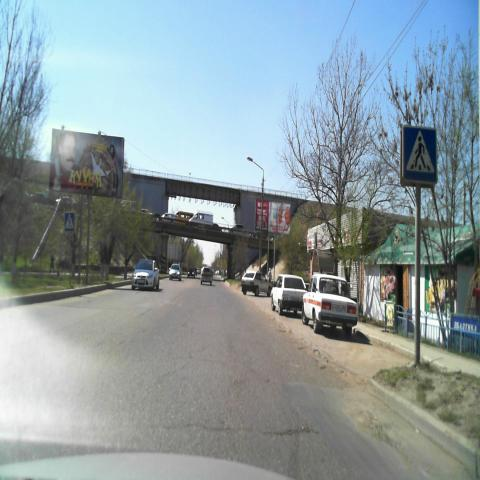5_19_1: (402, 123, 438, 185), (64, 213, 75, 231)
